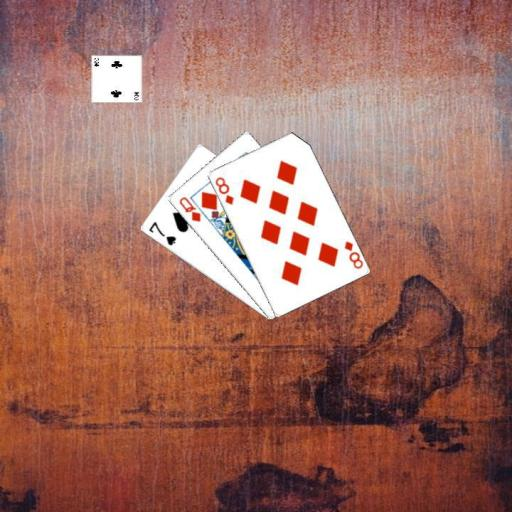7S: (145, 218, 178, 247)
8D: (212, 174, 235, 206), (341, 238, 364, 270)
QD: (176, 194, 202, 224)
